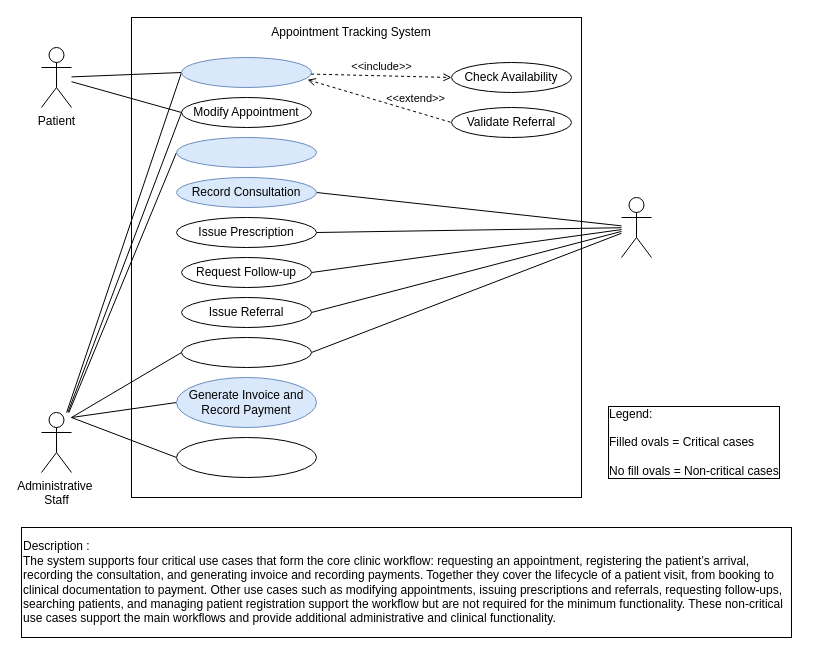
Some shapes in this 819 by 655 pixel diagram are drawn without their labels. The centre of each missing label's shape, as x and y in pixels:
Healthcare Professional: the point at 636,227
Manage Patient Registration: the point at 246,457
Register Patient Arrival: the point at 246,152
Request Appointment: the point at 246,72
Search Patient: the point at 246,352
